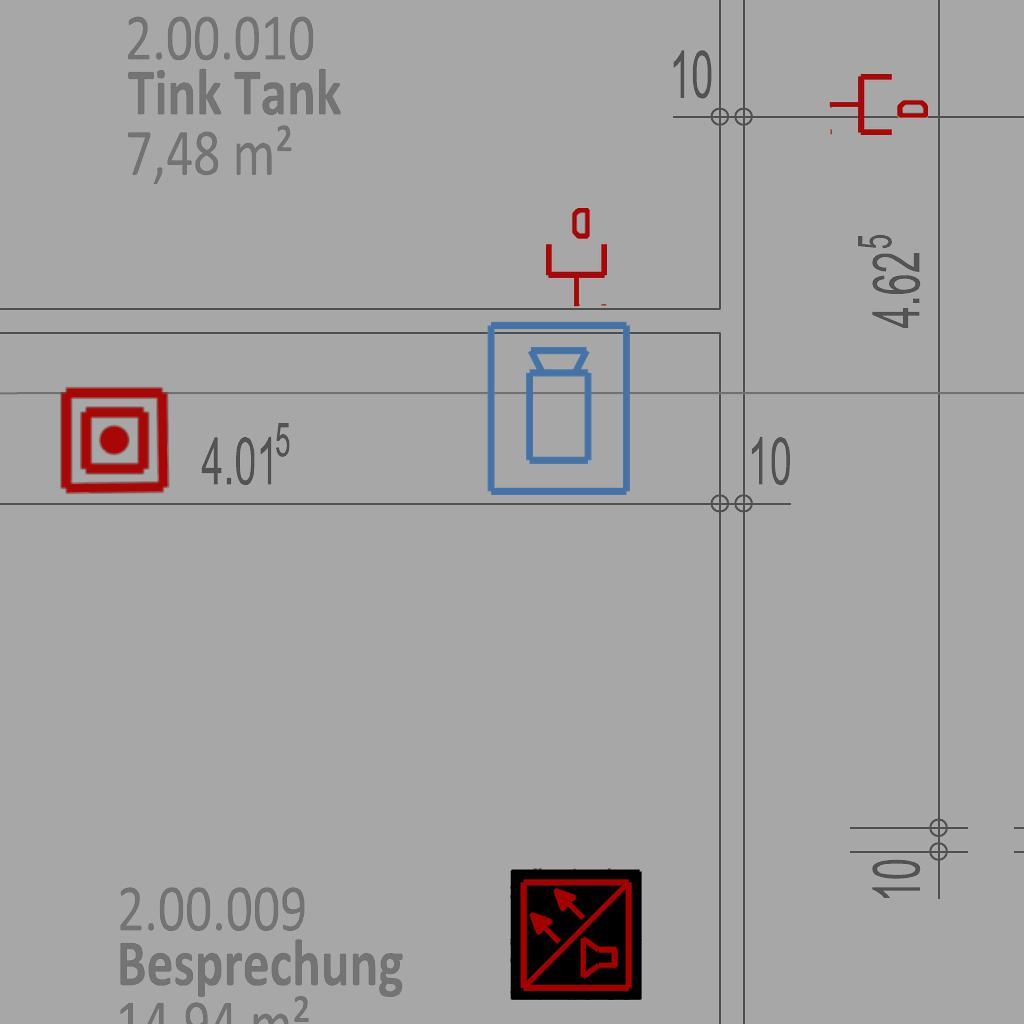Datenanschluss_einfach: (828, 70, 928, 139), (542, 208, 611, 308)
KFO_Kamera_mit_Festobjektiv: (483, 318, 637, 500)
NAM-Nichtautomatischer_Melder: (58, 384, 171, 497)
OKW_Multisensormelder_(Kombination_optischer_Rauch-Kahlenmonoxid_Waerme-Melder): (510, 868, 642, 1000)
